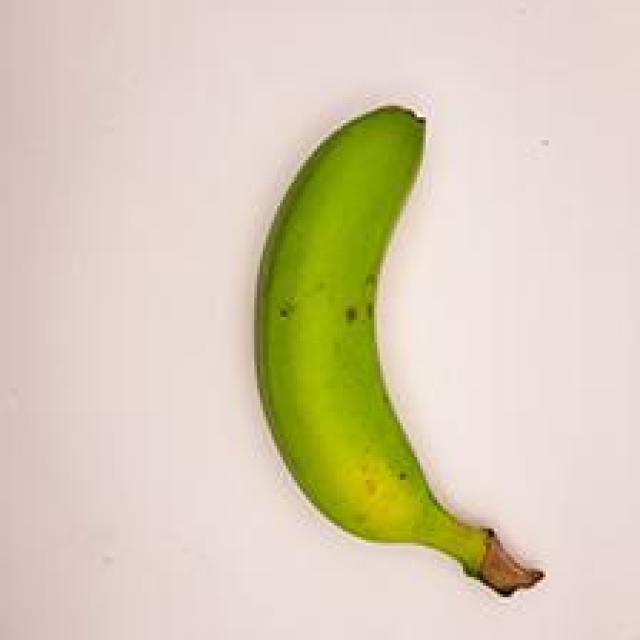Unripe: (204, 80, 582, 624)
